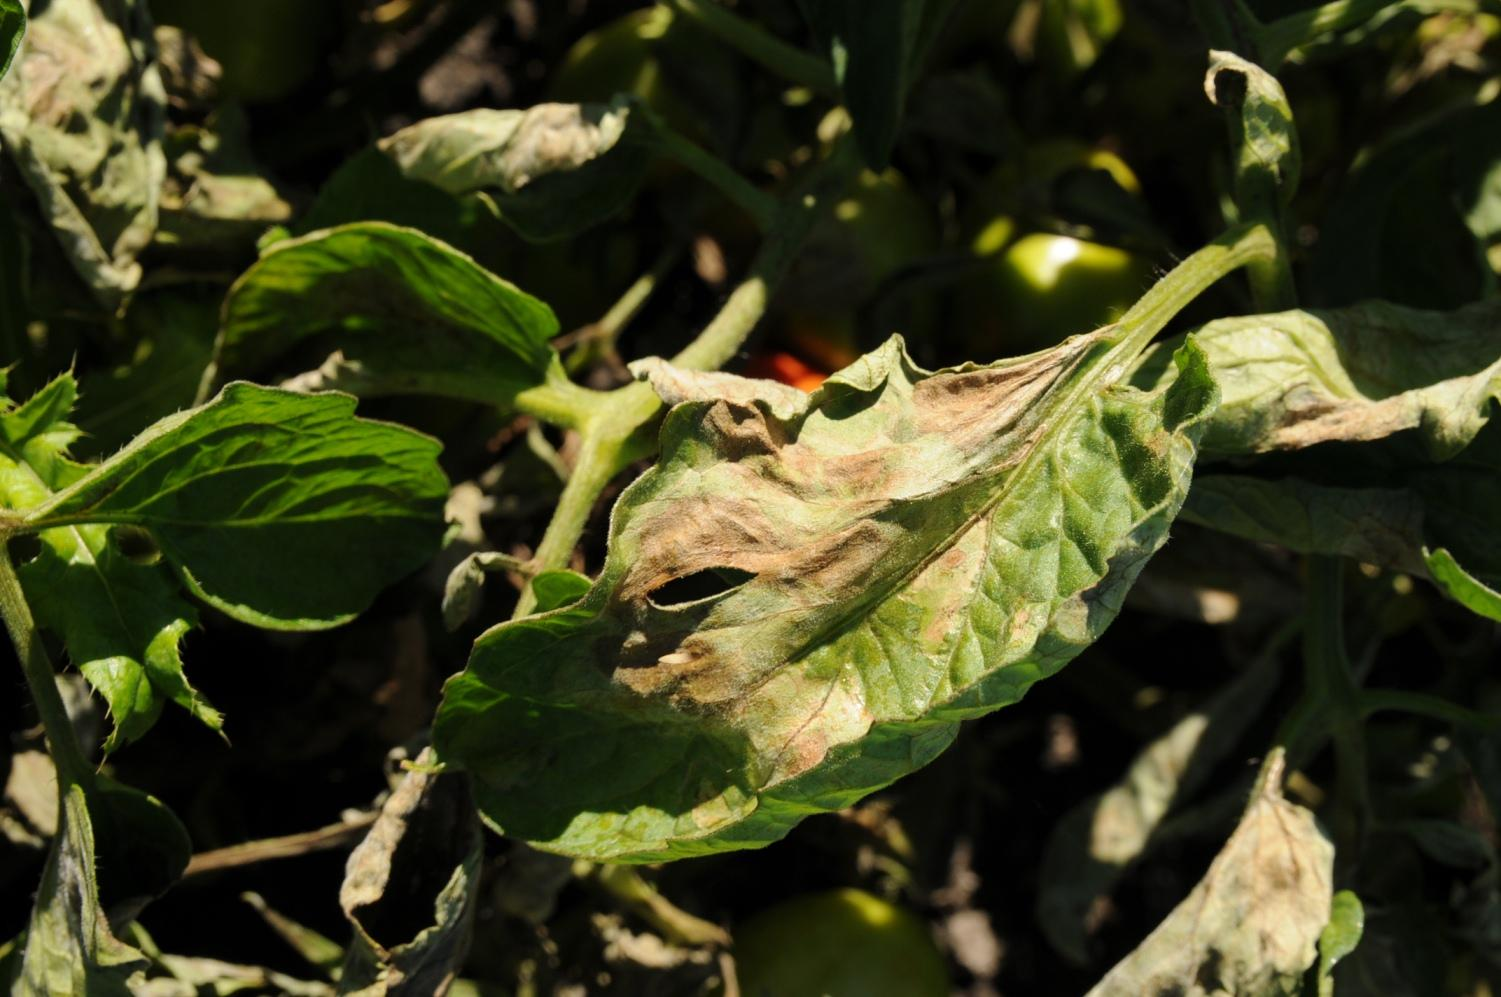Tomato leaf mosaic virus: (452, 320, 1177, 908)
